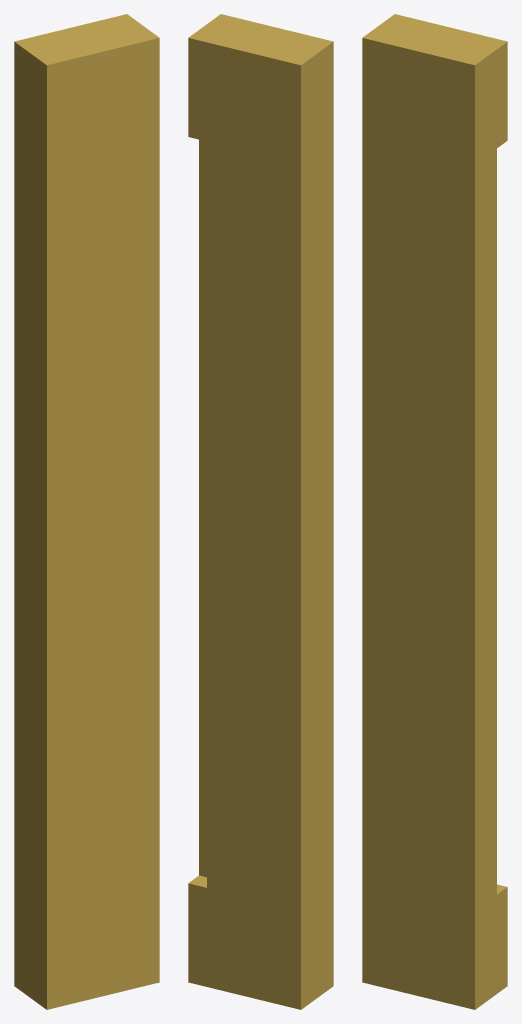
Rendered from original-54.obj.
3 views of the same model, side by side, from view 1: azimuth 30°, elevation 25°; view 2: azimuth 150°, elevation 25°; view 3: azimuth 330°, elevation 25° (orthographic).
Parts seen in each view (by area): view 1: _1x2_6/Door_Sides/mesh110/mesh110-geometry#mesh110-geometry; view 2: _1x2_6/Door_Sides/mesh110/mesh110-geometry#mesh110-geometry; view 3: _1x2_6/Door_Sides/mesh110/mesh110-geometry#mesh110-geometry.
Boxes of the visible parts, bbox=[...] form: _1x2_6/Door_Sides/mesh110/mesh110-geometry#mesh110-geometry: bbox=[14, 14, 159, 1009]; _1x2_6/Door_Sides/mesh110/mesh110-geometry#mesh110-geometry: bbox=[188, 14, 333, 1009]; _1x2_6/Door_Sides/mesh110/mesh110-geometry#mesh110-geometry: bbox=[362, 14, 507, 1009].
Size of the model in its own units: 0.0499 by 0.399 by 0.0249.
